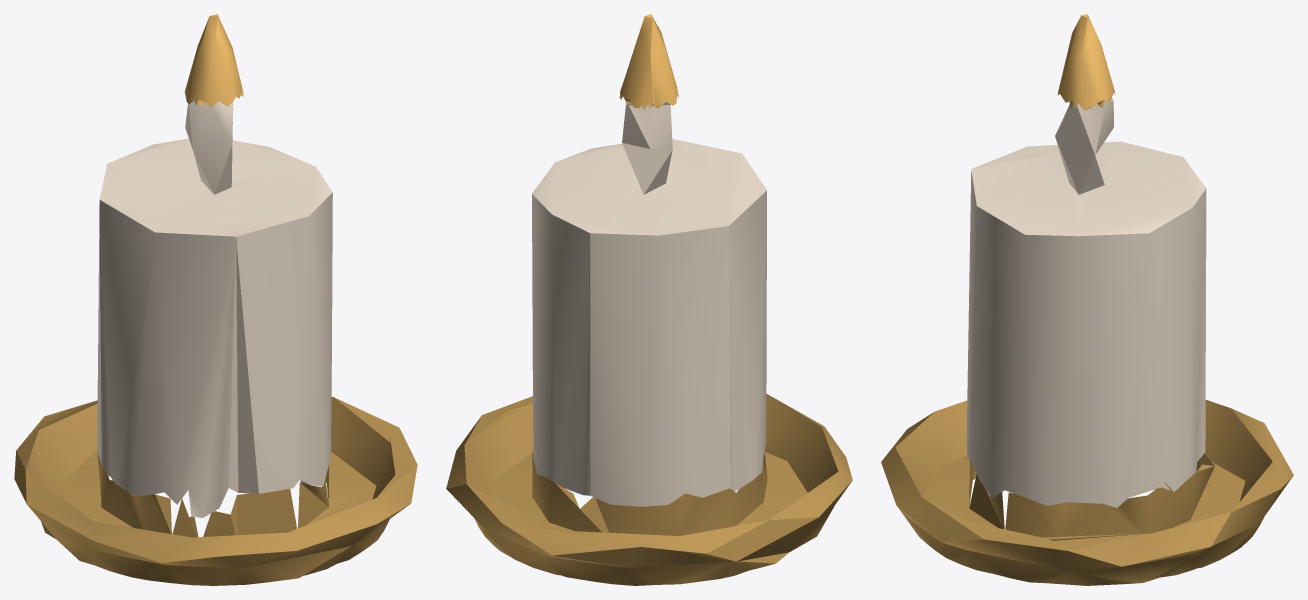
The model's file is candle.glb.
The picture shows the model from 3 angles, left to right: view 1: azimuth 30°, elevation 25°; view 2: azimuth 150°, elevation 25°; view 3: azimuth 270°, elevation 25°; orthographic projection.
Visible parts, largest first — view 1: candle_wax, candle_brass, candle_glow; view 2: candle_wax, candle_brass, candle_glow; view 3: candle_wax, candle_brass, candle_glow.
Part boxes in pixels (box(x1,y1,x2,y2)): candle_wax: box(97, 100, 332, 517); candle_brass: box(14, 397, 417, 585); candle_glow: box(184, 14, 243, 107); candle_wax: box(532, 99, 766, 506); candle_brass: box(446, 393, 852, 585); candle_glow: box(619, 14, 678, 109); candle_wax: box(966, 99, 1206, 507); candle_brass: box(881, 400, 1293, 585); candle_glow: box(1057, 14, 1115, 110).
Bounding box in the file's own units: 0.2014 × 0.2693 × 0.2026.
